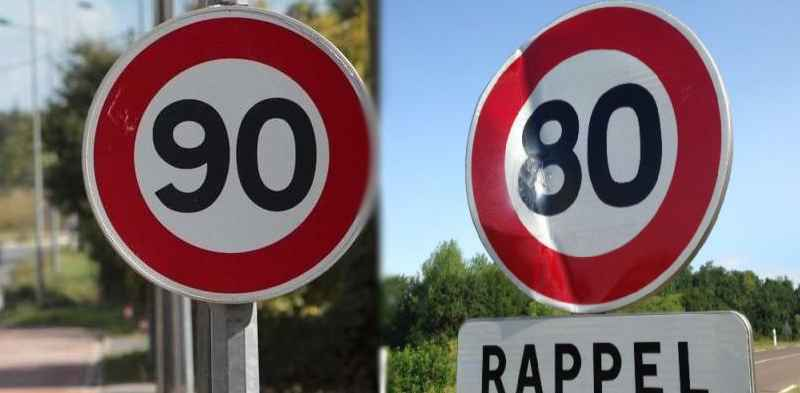Speed_limit_80km: (463, 5, 732, 312)
Speed_limit_90km: (77, 7, 386, 302)
